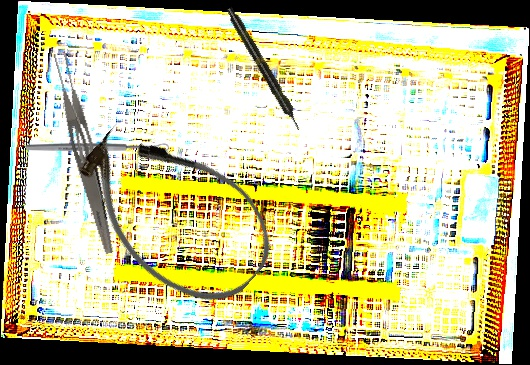Cannula: (55, 97, 294, 328)
Dressing Forceps: (47, 49, 124, 256)
Handpiece: (223, 5, 305, 133)
Surgical Spoon: (25, 143, 169, 152)
